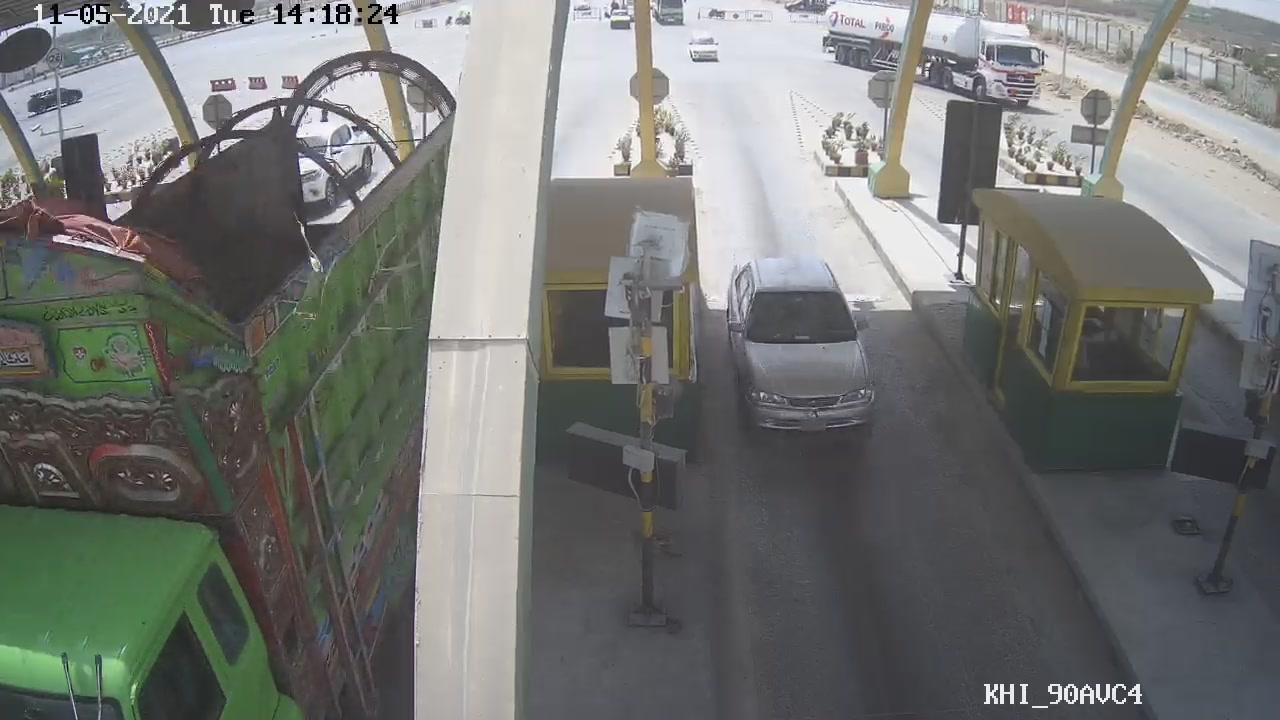F1: (726, 252, 879, 442)
